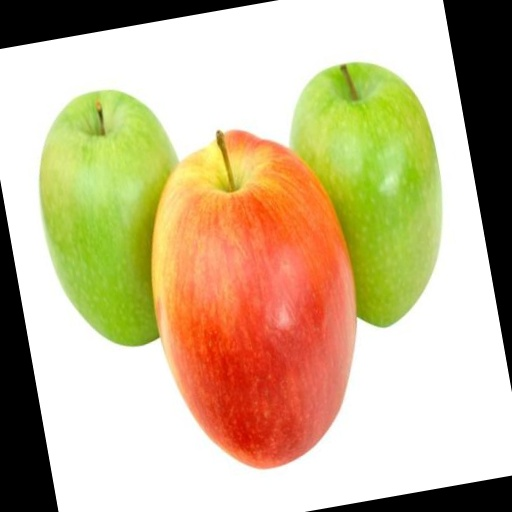fruit: (151, 131, 355, 467), (290, 63, 441, 326), (39, 90, 176, 345)
